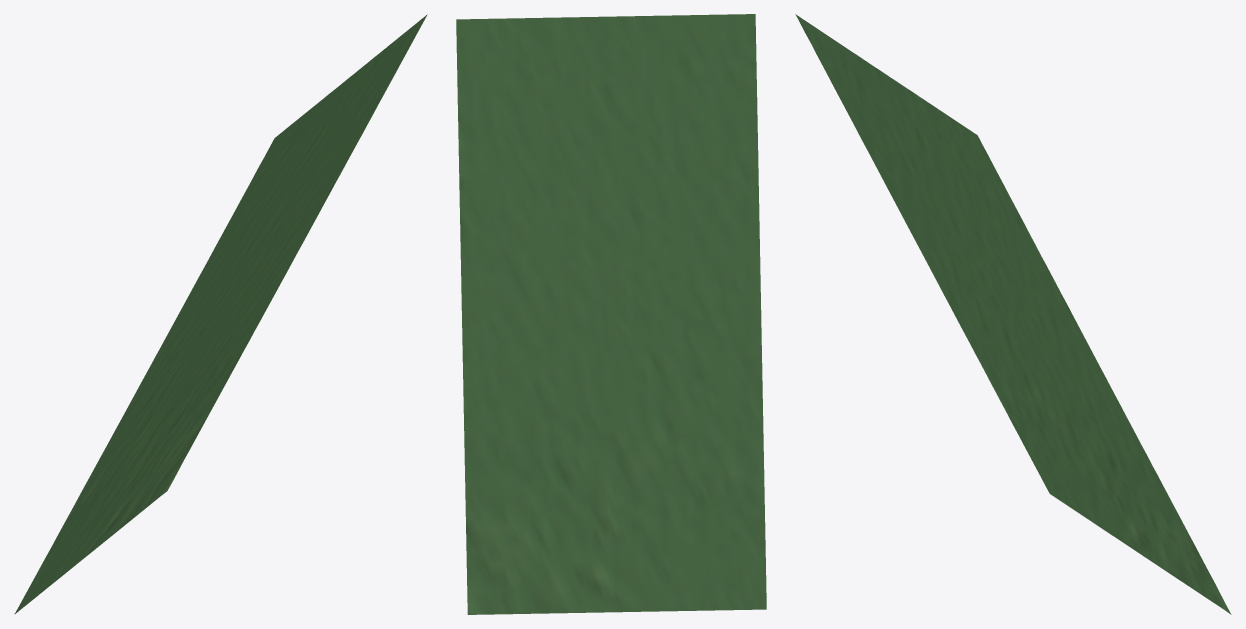
The picture shows the model from 3 angles, left to right: view 1: azimuth 30°, elevation 25°; view 2: azimuth 150°, elevation 25°; view 3: azimuth 270°, elevation 25°; orthographic projection. The views are drawn at different scales.
Size of the model in its own units: 9882 by 13333 by 9618.
